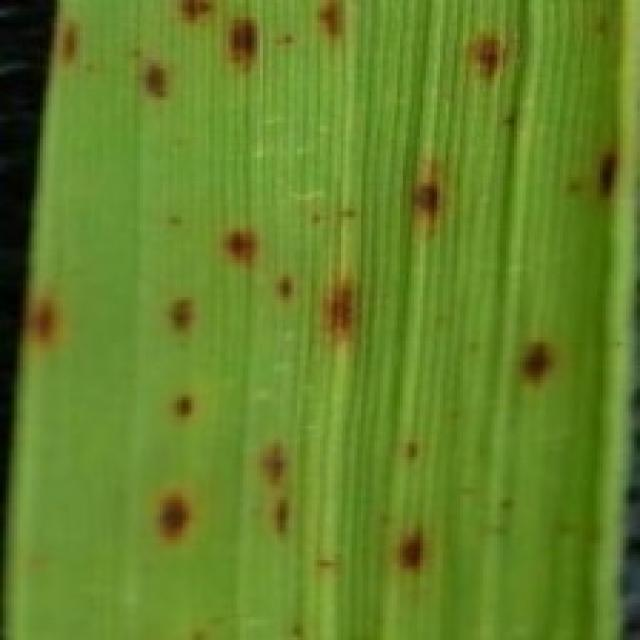Rice___Brown_Spot: (4, 0, 637, 637)
